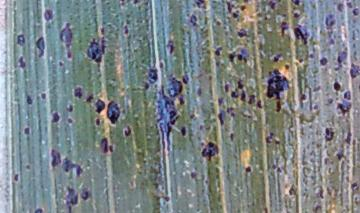tarspot: (154, 73, 182, 152), (265, 67, 290, 114), (58, 21, 77, 59), (86, 35, 108, 64), (62, 156, 85, 178), (62, 184, 79, 213), (323, 14, 338, 45), (199, 141, 220, 161), (291, 24, 310, 46), (106, 99, 120, 125), (333, 51, 349, 72), (336, 101, 354, 118), (49, 148, 62, 169), (227, 53, 249, 65), (35, 36, 46, 59), (146, 67, 160, 85), (308, 40, 317, 65), (94, 99, 107, 116), (99, 136, 110, 155), (349, 61, 360, 80), (42, 7, 55, 23), (323, 126, 335, 143), (279, 20, 289, 38), (236, 27, 251, 39), (343, 126, 352, 146), (72, 85, 83, 101), (16, 54, 27, 70), (335, 148, 347, 162), (122, 124, 133, 138), (165, 40, 175, 55), (16, 32, 26, 47), (216, 111, 226, 126), (80, 188, 91, 201), (216, 94, 226, 108), (50, 111, 60, 124), (264, 131, 274, 144), (194, 1, 208, 10), (318, 56, 329, 67), (342, 90, 353, 101), (332, 80, 342, 92), (271, 53, 283, 63), (236, 78, 246, 90), (189, 14, 198, 27), (247, 93, 256, 106), (288, 183, 297, 196), (179, 124, 187, 138), (239, 89, 247, 103), (213, 46, 224, 56), (22, 125, 31, 137), (142, 80, 151, 92), (181, 73, 190, 85), (195, 85, 204, 97), (336, 2, 346, 12), (188, 112, 198, 122), (188, 170, 199, 179), (318, 186, 325, 200), (255, 98, 263, 110), (38, 92, 48, 101), (24, 95, 33, 105), (351, 7, 360, 17), (349, 182, 358, 192), (94, 117, 102, 128), (223, 82, 231, 93), (32, 206, 44, 213), (122, 24, 129, 36), (229, 130, 235, 144), (299, 92, 308, 101), (85, 95, 94, 104), (65, 103, 74, 112), (267, 1, 276, 10), (313, 204, 322, 213), (98, 25, 106, 35), (157, 60, 165, 70), (244, 165, 252, 174), (65, 116, 74, 124), (292, 11, 300, 20), (345, 1, 354, 9), (230, 90, 239, 98), (312, 84, 321, 92), (108, 143, 115, 153), (351, 28, 356, 41), (312, 103, 320, 111), (327, 96, 334, 105), (13, 172, 19, 182), (57, 60, 65, 67), (214, 20, 222, 27), (262, 205, 269, 213), (290, 1, 301, 6), (24, 164, 31, 171), (270, 163, 277, 170), (275, 166, 282, 173), (297, 57, 304, 64), (284, 63, 290, 71), (226, 105, 234, 111), (274, 139, 281, 145), (229, 111, 235, 118), (132, 1, 140, 6), (241, 1, 249, 4)
